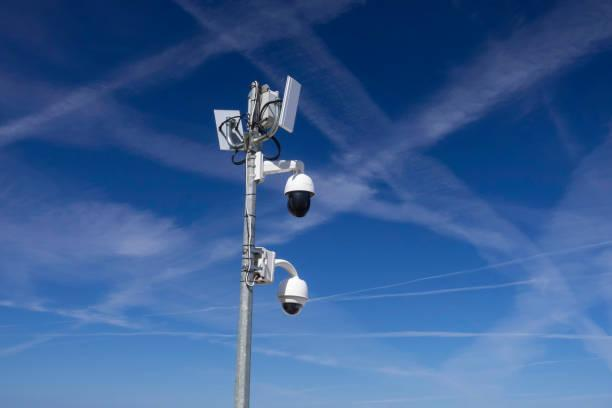camera: (274, 155, 322, 219), (269, 264, 321, 323)
